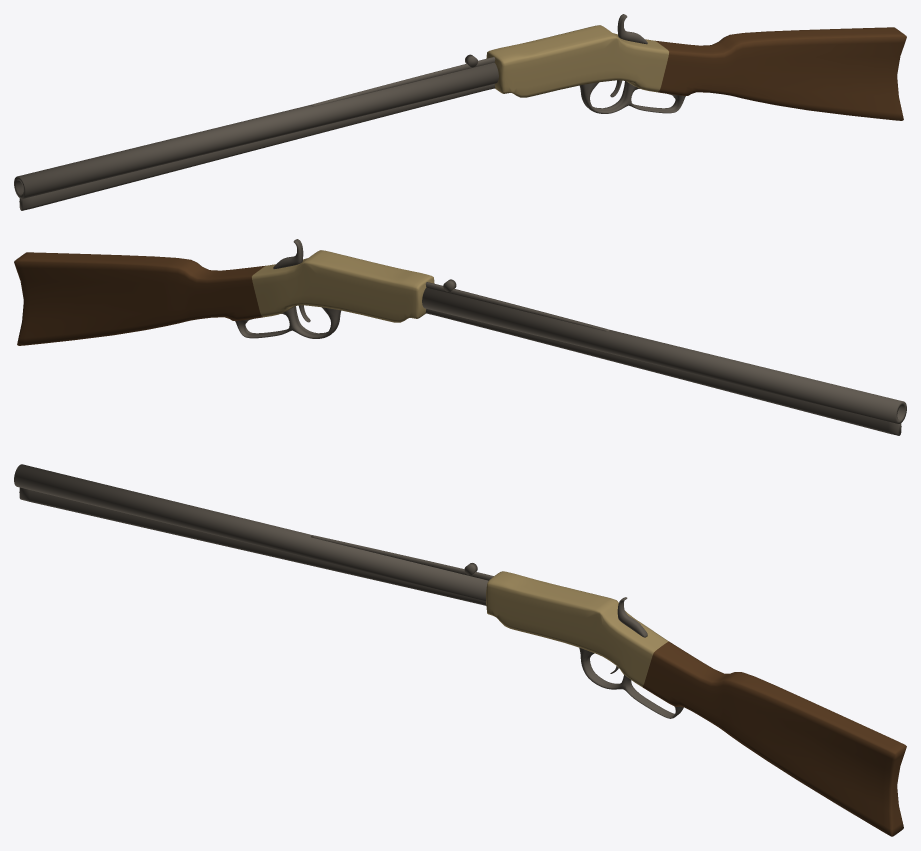
Rendered from Evan Tan Henry Rifle.glb.
3 renders of one model, top to bottom at view 1: azimuth 30°, elevation 25°; view 2: azimuth 150°, elevation 25°; view 3: azimuth 330°, elevation 25°, orthographic.
Visible parts, largest first — view 1: Plane.001, Cylinder, Plane.003, Plane.002; view 2: Plane.001, Cylinder, Plane.003, Plane.002; view 3: Plane.001, Cylinder, Plane.003, Plane.002.
Boxes of the visible parts, bbox=[...] form: Plane.001: bbox=[486, 25, 906, 120]; Cylinder: bbox=[14, 62, 498, 198]; Plane.003: bbox=[19, 57, 495, 210]; Plane.002: bbox=[579, 81, 685, 113]; Plane.001: bbox=[14, 250, 434, 345]; Cylinder: bbox=[422, 287, 906, 423]; Plane.003: bbox=[425, 282, 901, 435]; Plane.002: bbox=[235, 306, 341, 338]; Plane.001: bbox=[486, 571, 906, 836]; Cylinder: bbox=[14, 464, 488, 600]; Plane.003: bbox=[19, 487, 493, 605]; Plane.002: bbox=[579, 648, 683, 718].
Size of the model in its own units: 4.72 by 0.8631 by 0.1647.
